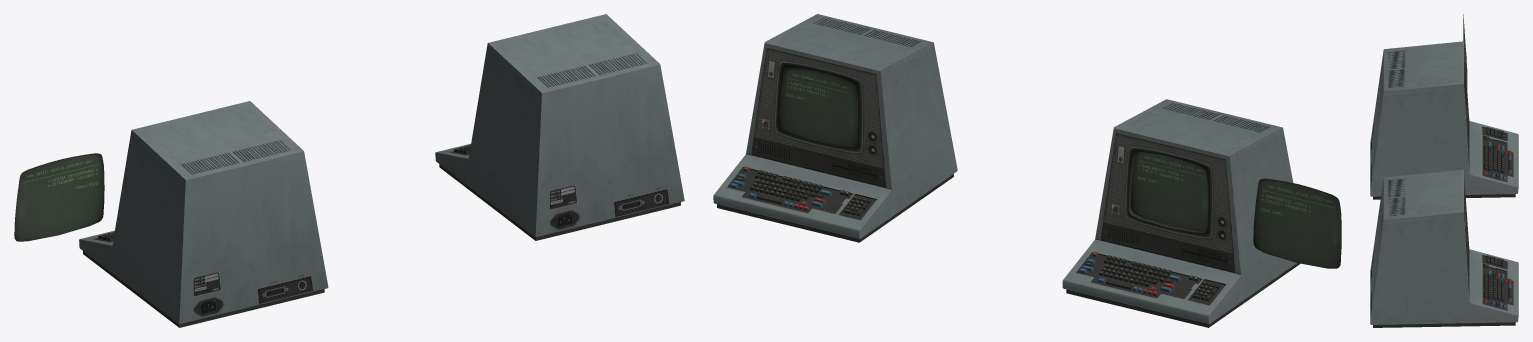
Rendered from digital-monitor.glb.
3 renders of one model, left to right at view 1: azimuth 30°, elevation 25°; view 2: azimuth 150°, elevation 25°; view 3: azimuth 270°, elevation 25°, orthographic. The views are drawn at different scales.
Visible parts, largest first — view 1: PC1.001_Material_0, PC2_Material_0, PlaneForRenderedView_Display_0; view 2: PC1.001_Material_0, PC2_Material_0, PlaneForRenderedView_Display_0, PC2_Display_0; view 3: PC1.001_Material_0, PC2_Material_0, PlaneForRenderedView_Display_0.
Part boxes in pixels (x1,y1,x2,y2): PC1.001_Material_0: [435, 14, 684, 240]; PC2_Material_0: [79, 101, 328, 327]; PlaneForRenderedView_Display_0: [14, 153, 104, 241]; PC1.001_Material_0: [713, 14, 957, 242]; PC2_Material_0: [1062, 99, 1300, 327]; PlaneForRenderedView_Display_0: [1253, 178, 1341, 268]; PC2_Display_0: [1131, 151, 1207, 231]; PC1.001_Material_0: [1370, 169, 1518, 327]; PC2_Material_0: [1370, 41, 1518, 199]; PlaneForRenderedView_Display_0: [1463, 14, 1467, 88].
Size of the model in its own units: 4.43 by 1.05 by 1.27.
3 materials, 3 textured.
